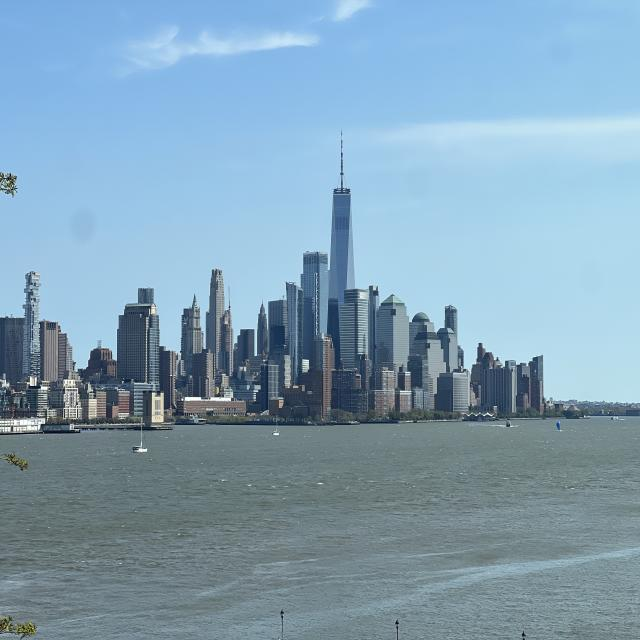WTC: (328, 128, 356, 290)
